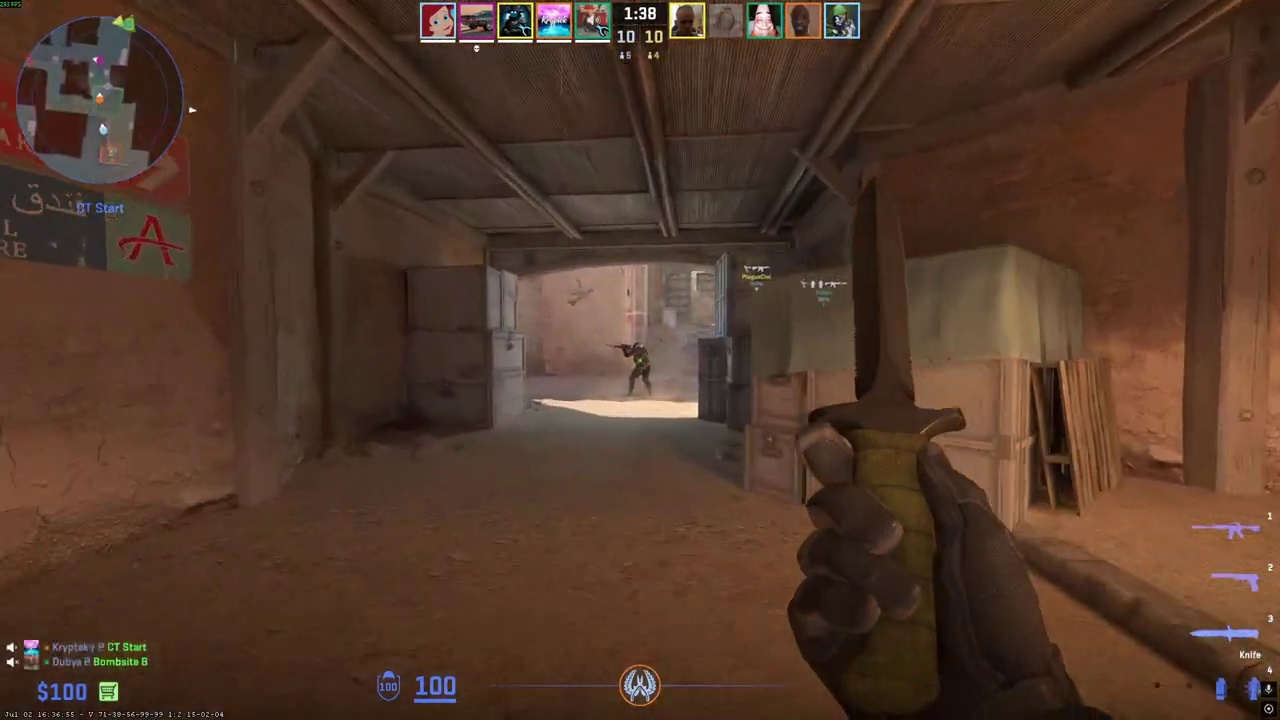CT: (625, 342, 651, 396)
